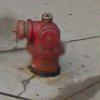Hydrant: (11, 6, 70, 81)
